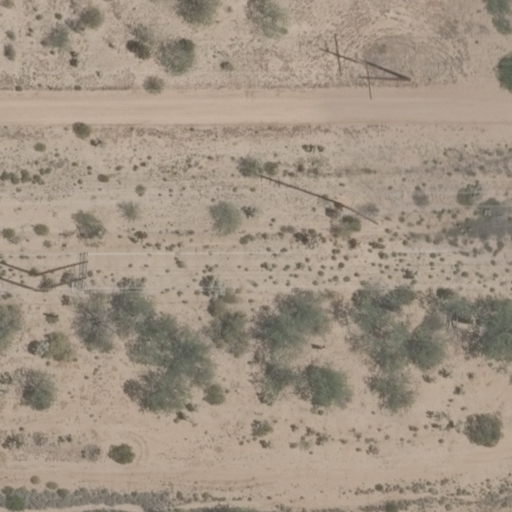DT: (357, 62, 410, 90), (328, 195, 378, 221)
TT: (39, 254, 89, 288)
